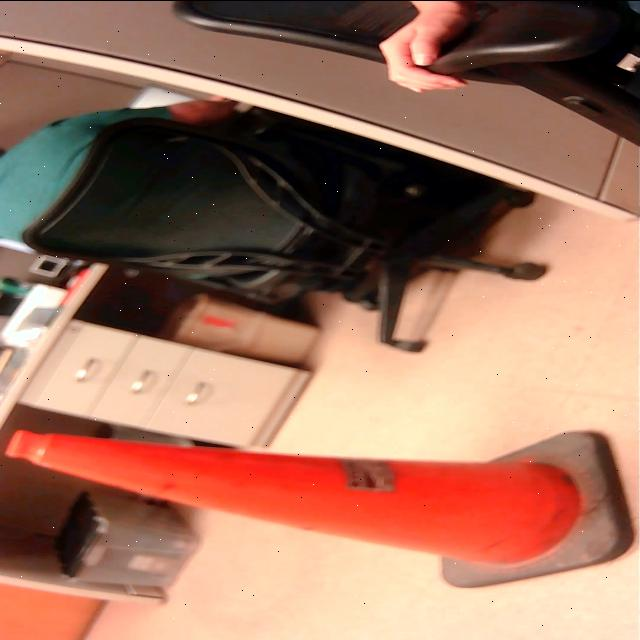traffic cone: (1, 425, 640, 592)
